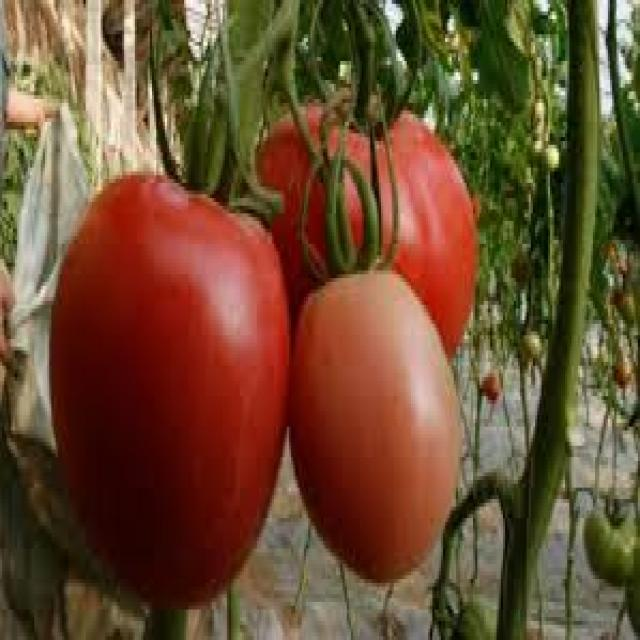organic waste: (47, 12, 289, 610), (293, 152, 456, 579), (251, 88, 475, 362), (580, 491, 638, 579), (439, 587, 492, 636), (516, 312, 544, 366), (477, 362, 503, 408), (612, 278, 634, 324), (608, 350, 629, 385)
